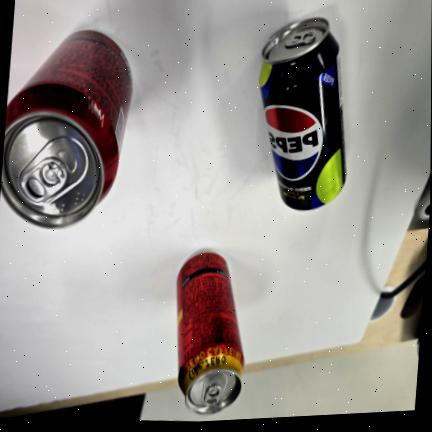can_coke_decaf: (176, 251, 244, 414)
can_coke_zero: (0, 30, 133, 228)
can_pepsi_zero: (259, 17, 345, 209)
